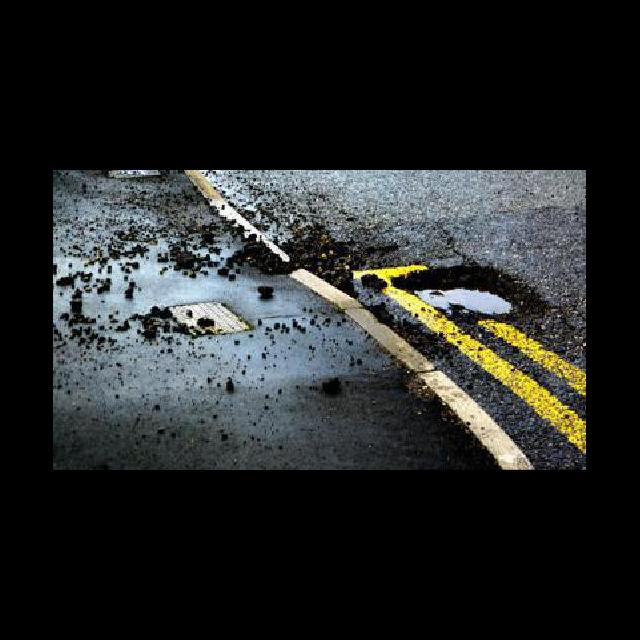lubang_kecil: (389, 244, 548, 335)
